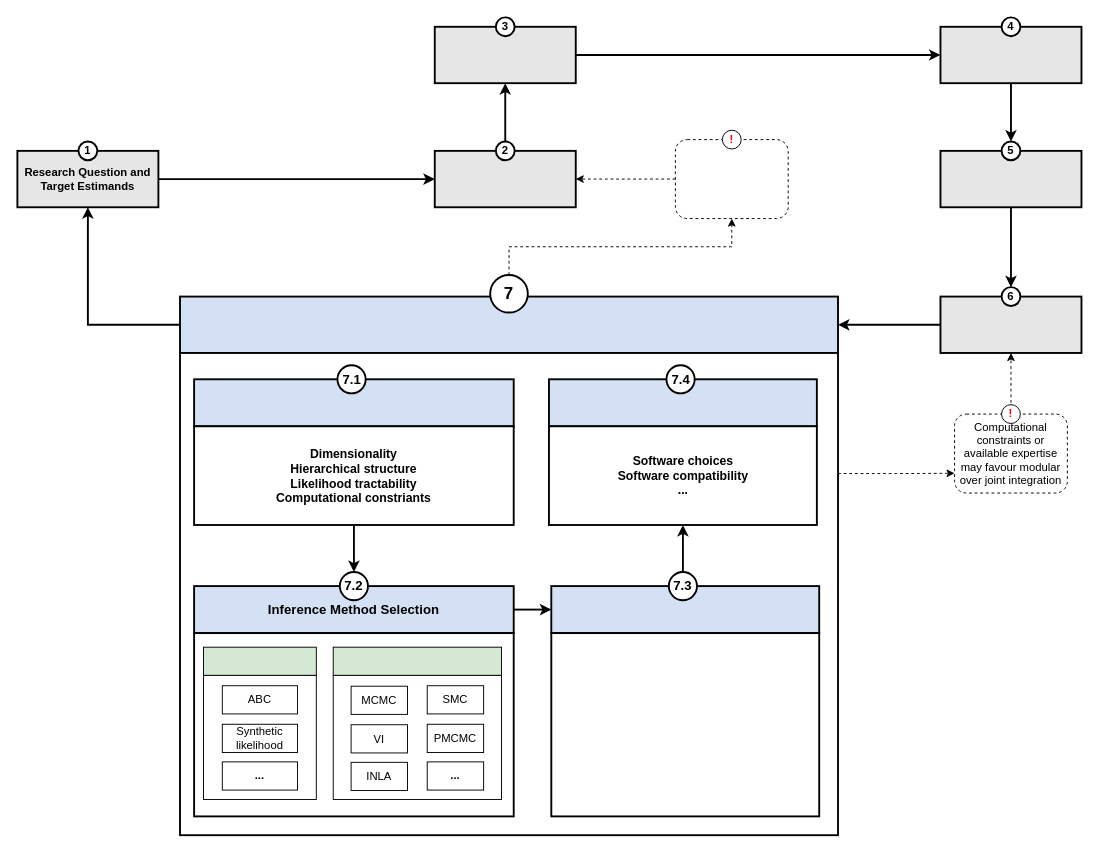
Some shapes in this 1098 by 852 pixel diagram are drawn without their labels. Here are the shapes that lost their labels. From the top down, the box of each, then its label:
(433, 25, 576, 84): Data Source Mapping
(939, 25, 1082, 84): Observation DAG Construction
(433, 149, 576, 208): Process DAG Development
(674, 139, 788, 219): Fitting constraints may require approximating or restructuring the process DAG
(939, 149, 1082, 208): Model Specification and Validation
(179, 295, 838, 353): Fitting Choices
(939, 295, 1082, 353): Data Integration Choices
(193, 378, 514, 427): Model Complexity Assessment
(548, 378, 817, 427): Implementation Considerations
(550, 585, 820, 634): Diagnostics
(203, 646, 316, 675): Likelihood-free approaches
(332, 646, 501, 675): Likelihood-based approaches
(550, 632, 820, 817): Convergence checks Sensitivity analysis Computational trade-offs ...
